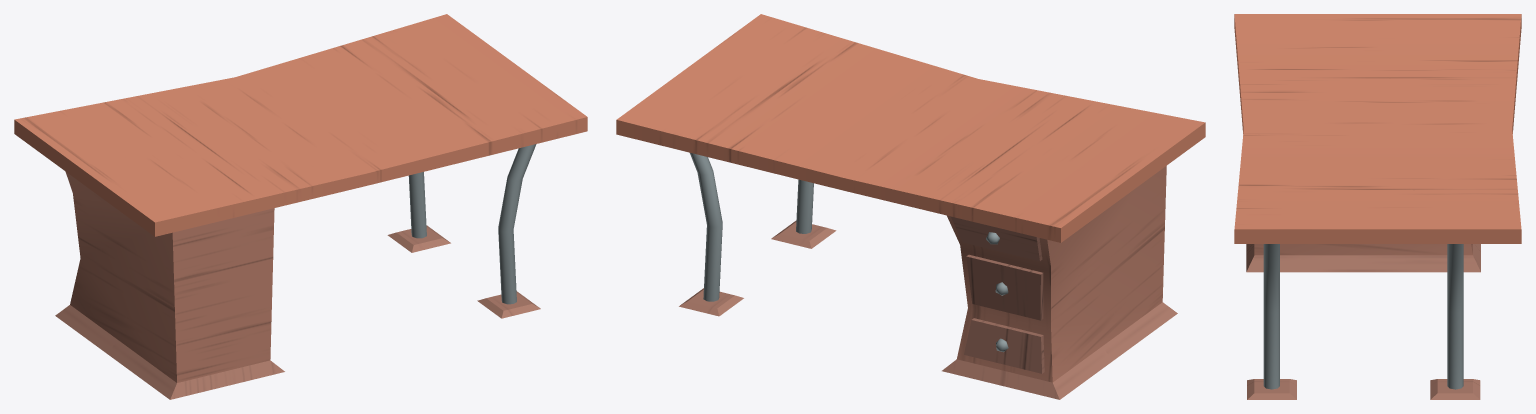
The model's file is Mesh_Desk.fbx.
3 views of the same model, side by side, from view 1: azimuth 30°, elevation 25°; view 2: azimuth 150°, elevation 25°; view 3: azimuth 270°, elevation 25° (orthographic). The views are drawn at different scales.
Parts seen in each view (by area): view 1: Desk; view 2: Desk; view 3: Desk.
Boxes of the visible parts, bbox=[...] form: Desk: bbox=[14, 14, 587, 399]; Desk: bbox=[616, 14, 1205, 399]; Desk: bbox=[1234, 14, 1521, 399].
Size of the model in its own units: 391 by 162 by 220.
Materials: 1 (1 with a texture image).
